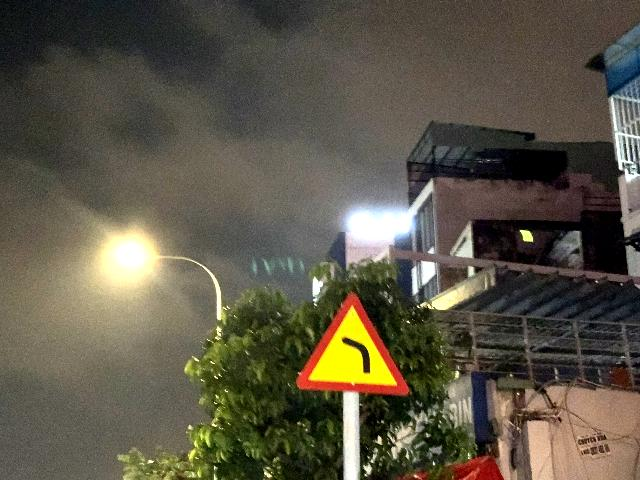cho-ngoat-nguy-hiem-ben-trai: (295, 292, 410, 397)
